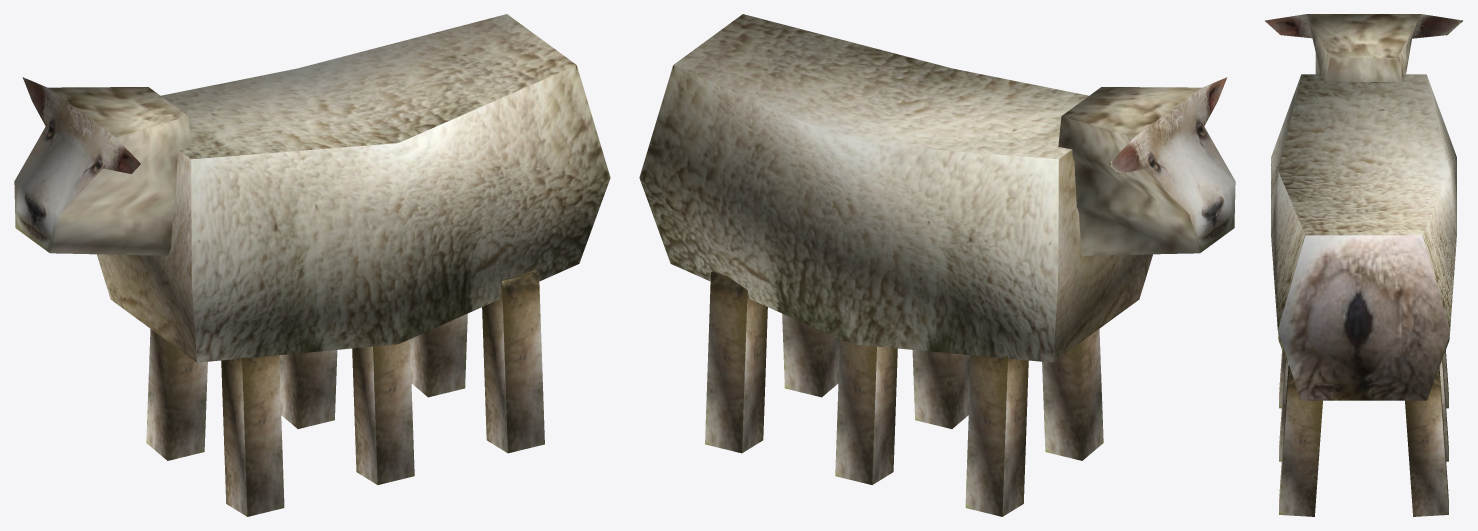
File: sau.glb
3 renders of one model, left to right at view 1: azimuth 30°, elevation 25°; view 2: azimuth 150°, elevation 25°; view 3: azimuth 270°, elevation 25°, orthographic. The views are drawn at different scales.
Parts seen in each view (by area): view 1: Cube.001; view 2: Cube.001; view 3: Cube.001.
Part boxes in pixels (x1,y1,x2,y2): Cube.001: (14, 14, 610, 516); Cube.001: (639, 14, 1235, 516); Cube.001: (1265, 14, 1462, 516).
Size of the model in its own units: 1.34 by 0.969 by 0.5239.
Materials: 1 (1 with a texture image).
